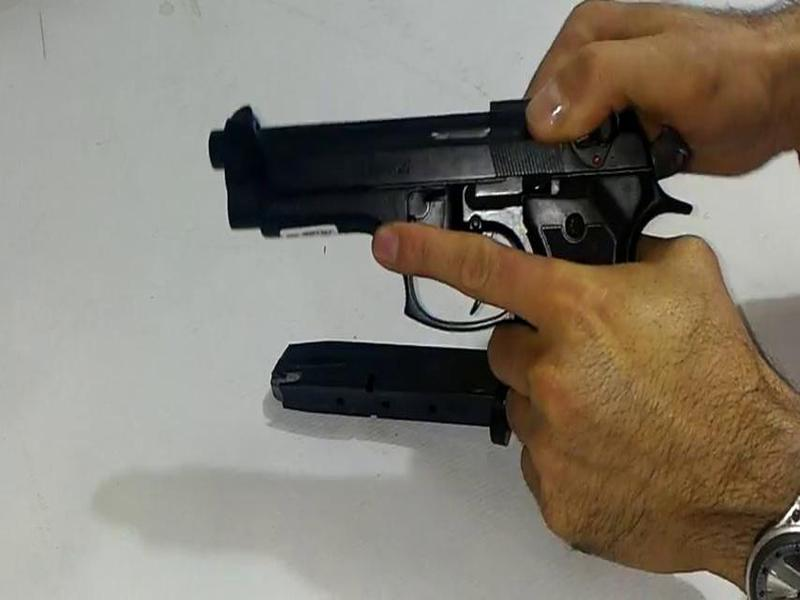Pistola: (194, 72, 738, 431)
